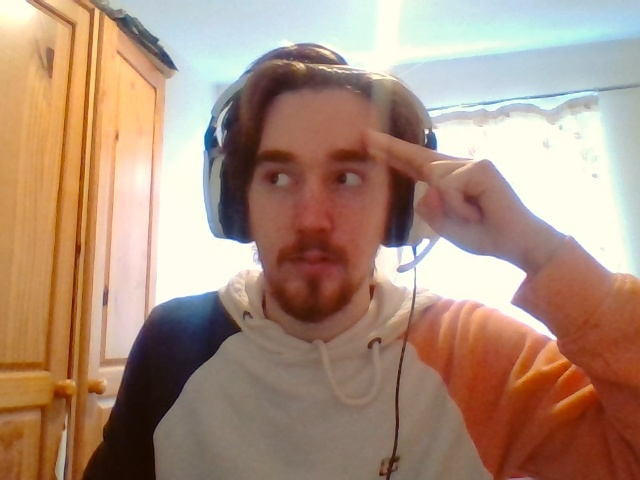name: (361, 127, 491, 235)
